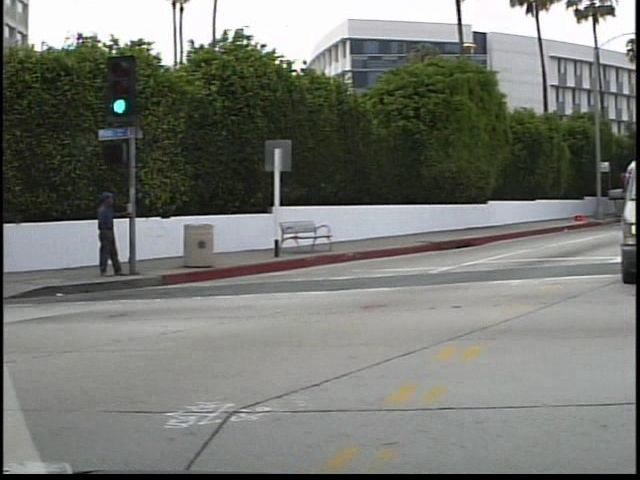person: (88, 186, 125, 280)
